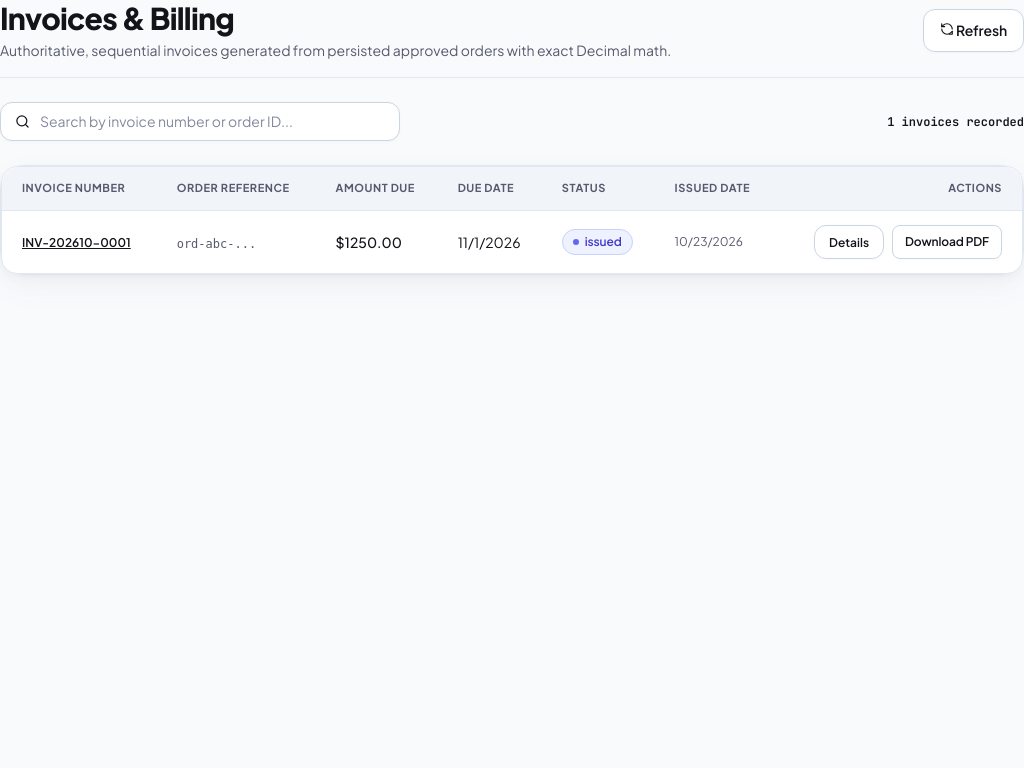
it: Phase 6: Operational Dashboard & Workflow Hardening › InvoicesPage Snapshot Inspection & Pagination › opens snapshot inspection modal on invoice click
Expected: the button "INV-202610-0001" is shown, x1=22 y1=230 x2=131 y2=254
Note: Click on Details button
Click the button "Details".
click(849, 242)  # box x1=814 y1=225 x2=884 y2=259
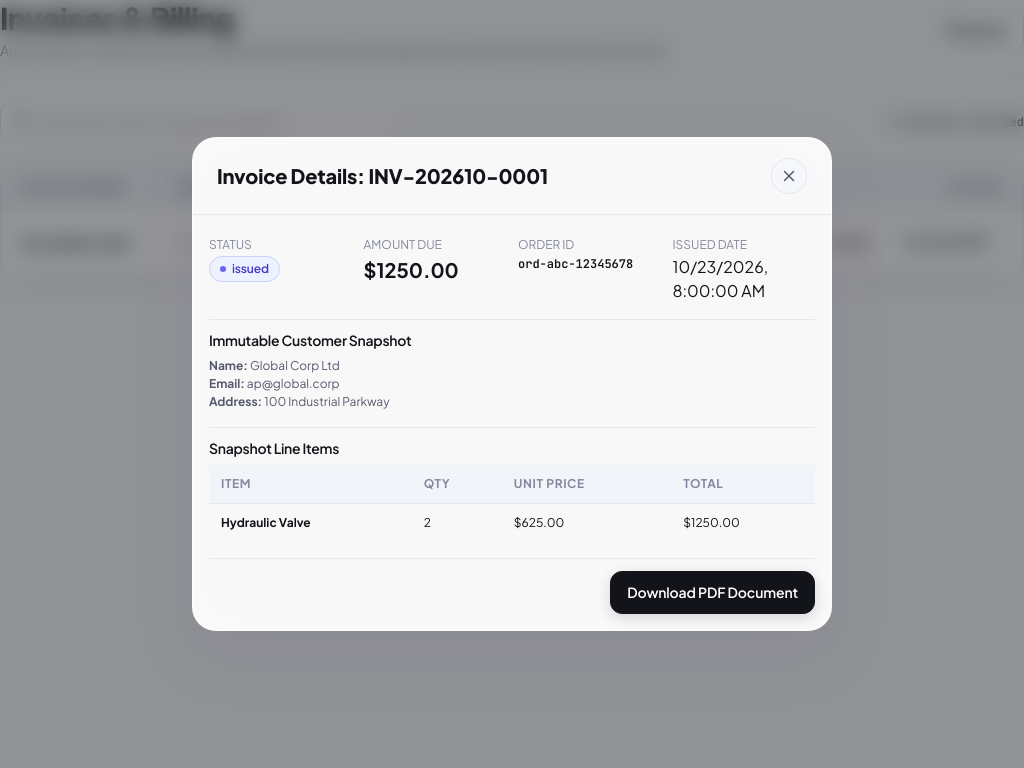
Expected: the heading "Invoice Details: INV-202610-0001" is shown, x1=217 y1=164 x2=548 y2=188
Expected: the heading "Immutable Customer Snapshot" is shown, x1=209 y1=331 x2=411 y2=349
Expected: the text "Name: Global Corp Ltd" is shown, x1=209 y1=358 x2=340 y2=373
